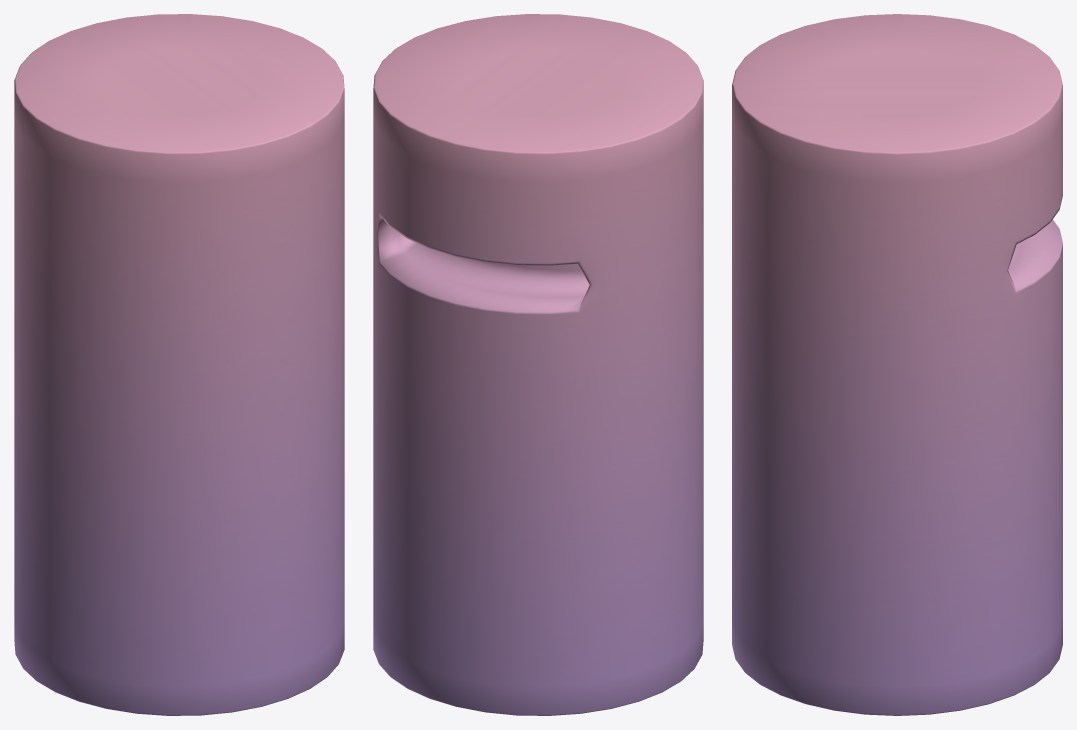
Rendered from Lixo_Amassando_1.fbx.
3 renders of one model, left to right at view 1: azimuth 30°, elevation 25°; view 2: azimuth 150°, elevation 25°; view 3: azimuth 270°, elevation 25°, orthographic.
Visible parts, largest first — view 1: Cylinder.003; view 2: Cylinder.003; view 3: Cylinder.003.
Part boxes in pixels (box(x1,y1,x2,y2)): Cylinder.003: box(14, 14, 344, 715); Cylinder.003: box(373, 14, 703, 715); Cylinder.003: box(732, 14, 1062, 715).
Bounding box in the file's own units: 149 × 280 × 149.
1 material, 1 textured.
